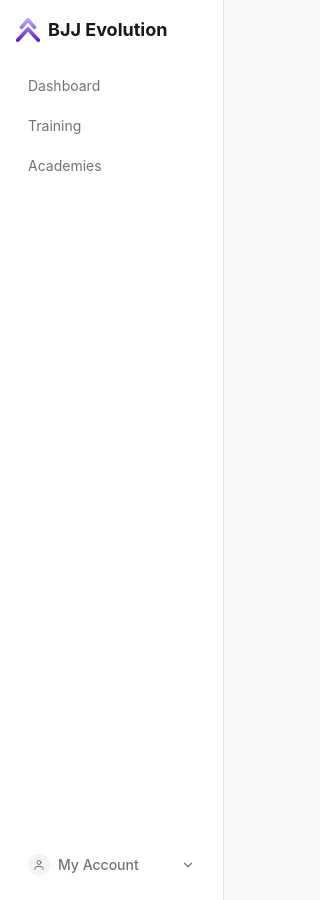
Test: AppLayout › switches the UI language to Portuguese
Click the button "My Account" at (112, 865), box x1=16 y1=846 x2=207 y2=884
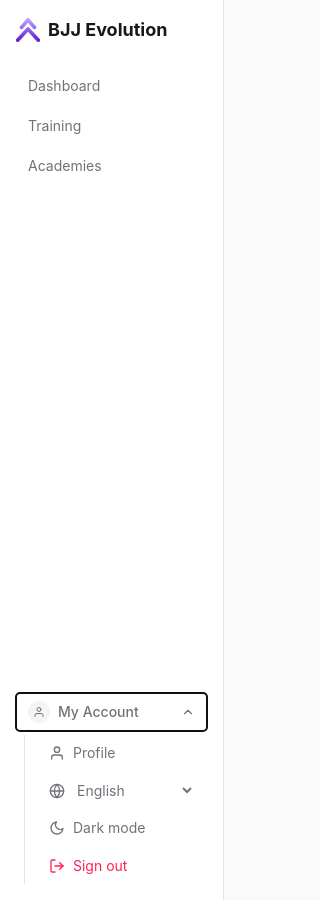
Select "Português (BR)" in the dropdown at (134, 790), box x1=73 y1=781 x2=195 y2=800
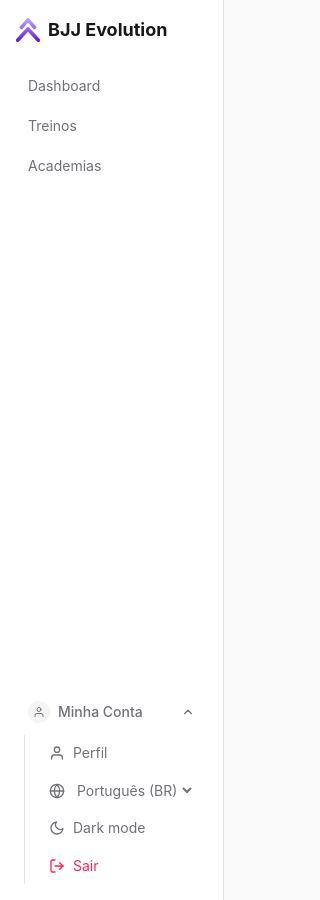
Check: the link "Treinos" is shown, box x1=28 y1=117 x2=77 y2=134
